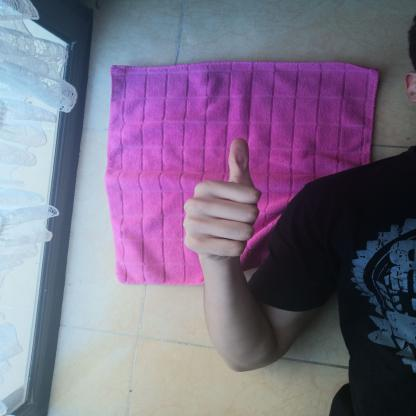ALIF: (173, 127, 276, 267)
